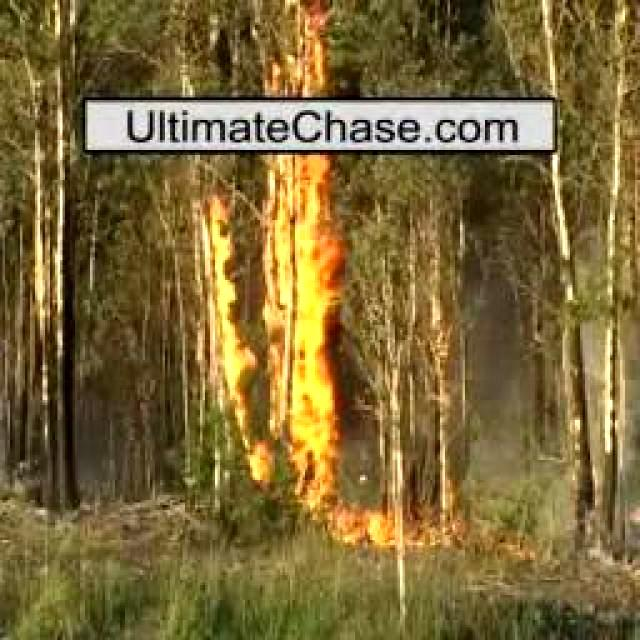fire: (202, 155, 338, 497), (262, 8, 332, 86), (324, 501, 402, 552)
